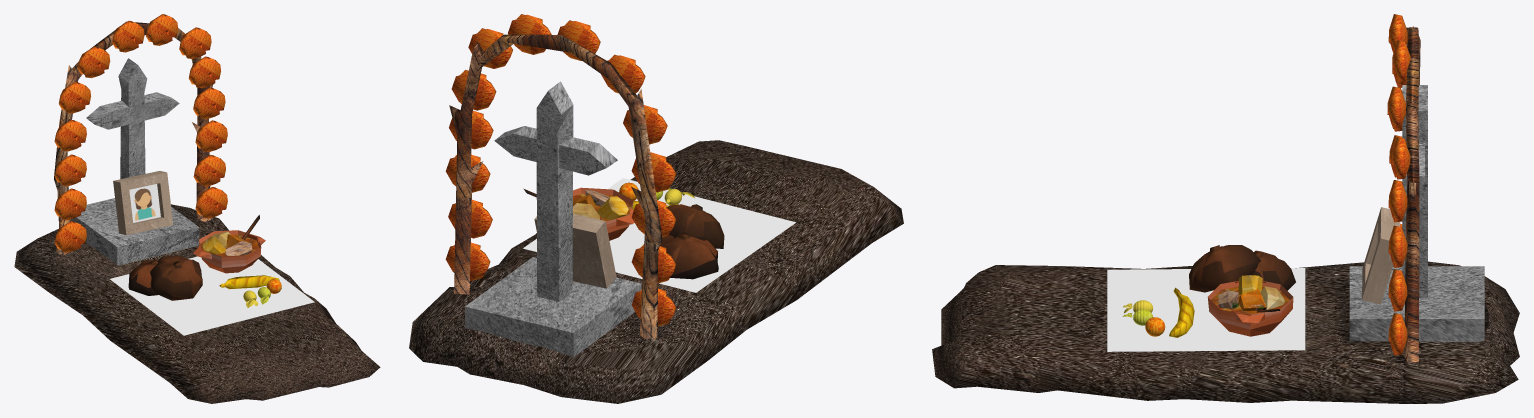
Rendered from tumba2.obj.
3 renders of one model, left to right at view 1: azimuth 30°, elevation 25°; view 2: azimuth 150°, elevation 25°; view 3: azimuth 270°, elevation 25°, orthographic. The views are drawn at different scales.
Visible parts, largest first — view 1: Cube.001; view 2: Cube.001; view 3: Cube.001.
Boxes of the visible parts, box(x1,y1,x2,y2) form: Cube.001: box(14, 14, 380, 403); Cube.001: box(409, 14, 903, 403); Cube.001: box(932, 14, 1519, 403).
Bounding box in the file's own units: 1.95 × 2.25 × 3.74.
21 materials, 21 textured.
